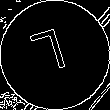L_S: (33, 26, 77, 84)
